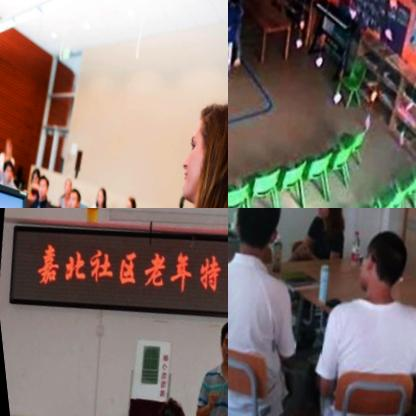head: (156, 88, 228, 208), (341, 223, 409, 306), (228, 208, 286, 265), (205, 319, 228, 374), (307, 208, 342, 227), (145, 401, 186, 416), (27, 176, 47, 206), (22, 167, 38, 192), (57, 189, 77, 208), (0, 159, 12, 184), (87, 188, 102, 208), (55, 177, 68, 196), (0, 136, 10, 156), (116, 201, 132, 208)
